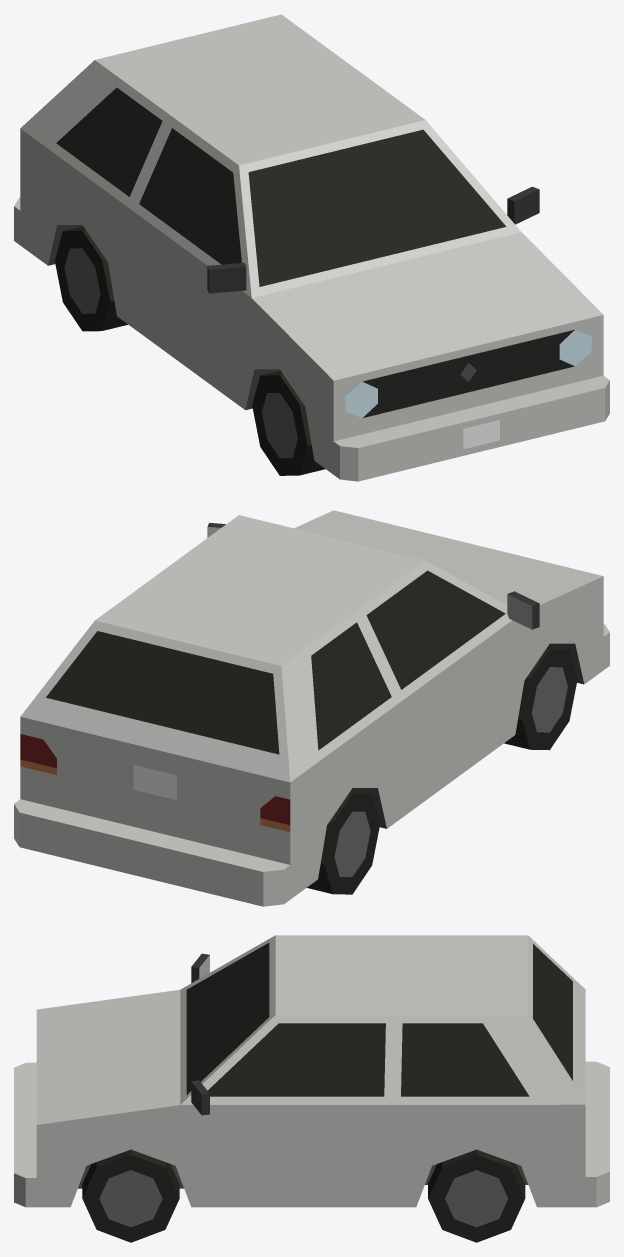
File: Veh_Coupe_02_White.obj
The picture shows the model from 3 angles, top to bottom: view 1: azimuth 30°, elevation 25°; view 2: azimuth 150°, elevation 25°; view 3: azimuth 270°, elevation 25°; orthographic projection. The views are drawn at different scales.
Size of the model in its own units: 1.12 by 0.78 by 2.01.
